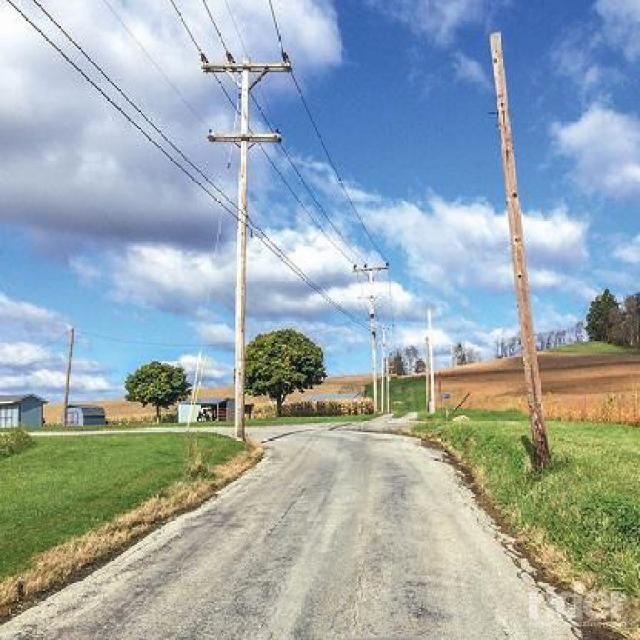crossarm: (200, 54, 292, 89), (209, 132, 283, 151)
pole: (232, 63, 274, 446)
wire: (4, 0, 316, 290), (30, 0, 321, 291), (168, 0, 358, 267), (201, 0, 339, 233), (268, 0, 371, 237)
